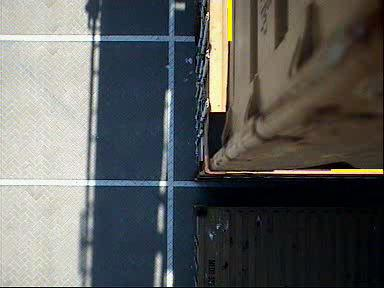groundmarker_2: (141, 24, 193, 60), (142, 196, 193, 232)
